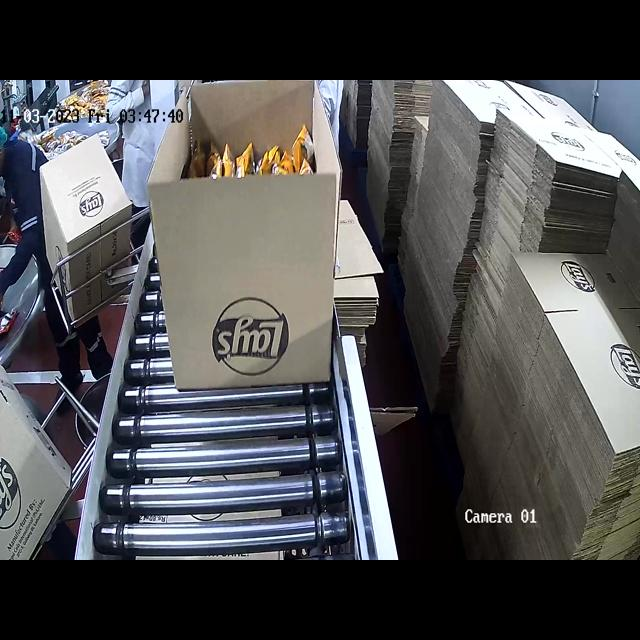cheese: (196, 131, 339, 181)
